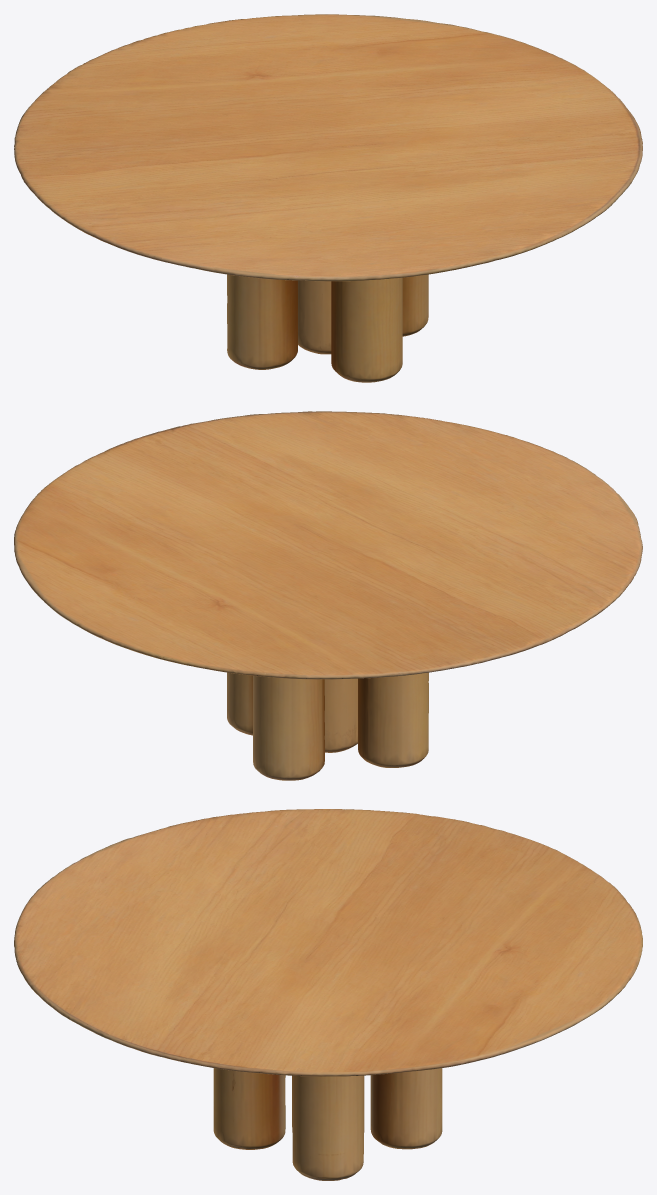
3 views of the same model, one above another, from view 1: azimuth 30°, elevation 25°; view 2: azimuth 150°, elevation 25°; view 3: azimuth 270°, elevation 25° (orthographic).
Size of the model in its own units: 2.01 by 0.6945 by 2.01.
Materials: 1 (1 with a texture image).
